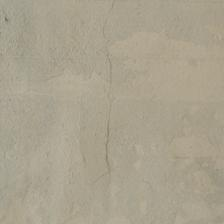Crack: (96, 5, 120, 175)
